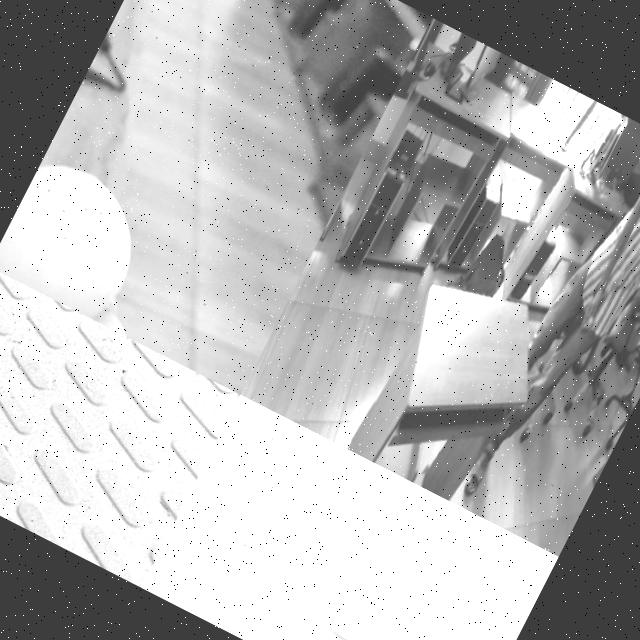ping-pong-ball: (282, 471, 488, 640), (0, 152, 160, 324), (584, 316, 596, 334)
